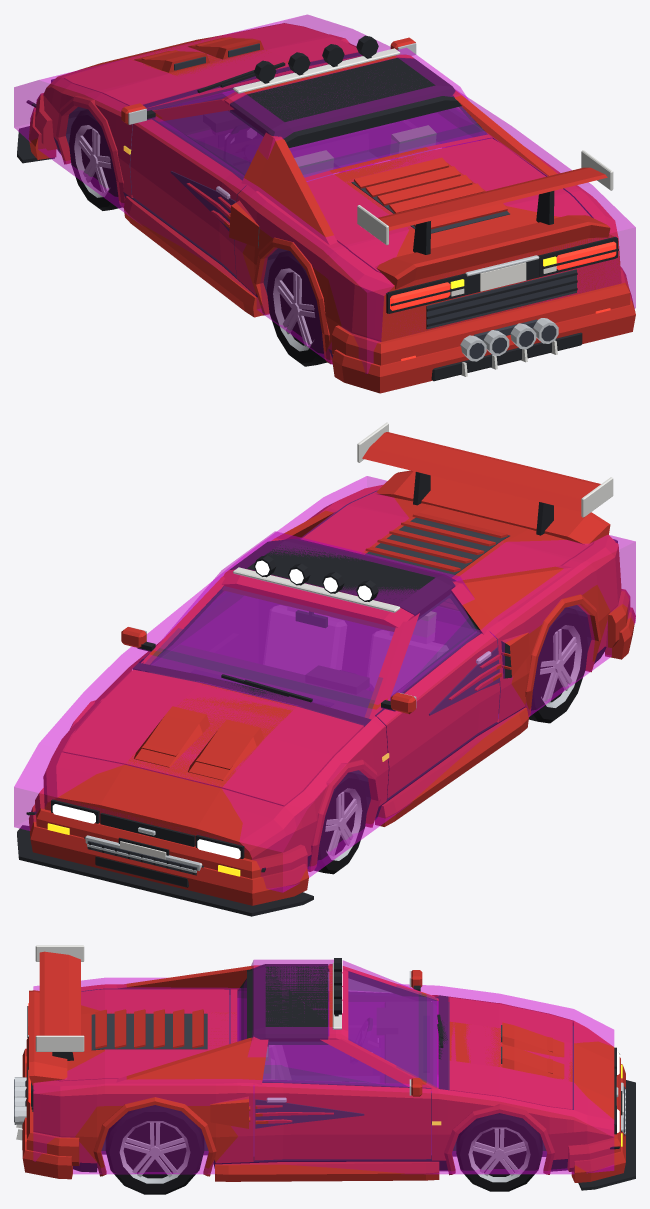
The model's file is sports.glb.
3 views of the same model, one above another, from view 1: azimuth 30°, elevation 25°; view 2: azimuth 150°, elevation 25°; view 3: azimuth 270°, elevation 25° (orthographic). The views are drawn at different scales.
Parts seen in each view (by area): view 1: Col_Body, Body, Trunk, Col_Cabin, Roof_Convertible, Door_FL, Hood, Mod_BumperR_A, Mod_Spoiler_A, Mod_Spoiler_B, Glass_Rear, Wheel_RL (+8 smaller); view 2: Col_Body, Body, Col_Cabin, Hood, Glass_Windshield, Trunk, Door_FL, Mod_BumperF_A, Mod_Spoiler_B, Roof_Convertible, Mod_Spoiler_A, Mod_Hood_A (+8 smaller); view 3: Col_Body, Body, Col_Cabin, Door_FR, Trunk, Hood, Glass_Windshield, Wheel_RR, Roof_Convertible, Wheel_FR, Mod_Spoiler_B, Mod_Skirts_A (+10 smaller).
Boxes of the visible parts, x1,y1,x2,y2 form: Col_Body: (14,14,635,373); Body: (35,23,630,365); Trunk: (306,138,590,272); Col_Cabin: (154,47,488,181); Roof_Convertible: (229,57,461,147); Door_FL: (121,103,246,275); Hood: (63,23,362,108); Mod_BumperR_A: (332,290,635,393); Mod_Spoiler_A: (375,215,610,289); Mod_Spoiler_B: (357,150,613,254); Glass_Rear: (289,106,487,177); Wheel_RL: (266,250,327,366); Col_Body: (14,476,635,892); Body: (35,484,630,878); Col_Cabin: (152,531,495,706); Hood: (63,669,363,806); Glass_Windshield: (145,586,394,718); Trunk: (301,491,592,609); Door_FL: (375,630,501,798); Mod_BumperF_A: (17,804,313,916); Mod_Spoiler_B: (357,422,613,535); Roof_Convertible: (229,538,455,620); Mod_Spoiler_A: (375,470,610,545); Mod_Hood_A: (134,706,263,780); Col_Body: (33,977,614,1174); Body: (25,964,623,1176); Col_Cabin: (237,959,438,1092); Door_FR: (254,1078,431,1160); Trunk: (58,989,229,1081); Hood: (449,997,572,1109); Glass_Windshield: (348,972,436,1087); Wheel_RR: (105,1105,204,1194); Roof_Convertible: (247,964,328,1044); Wheel_FR: (456,1113,542,1191); Mod_Spoiler_B: (35,945,84,1060); Mod_Skirts_A: (215,1161,439,1181).
Size of what is drawn, in the model's own units: 2.06 by 1.34 by 4.6.
